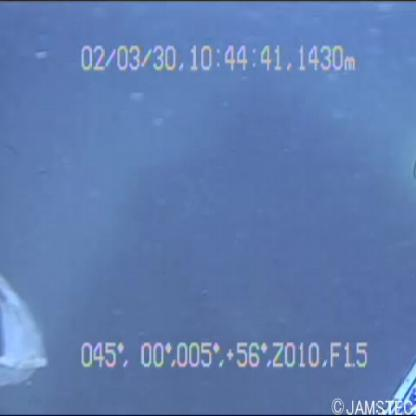Rác: (1, 254, 50, 388)
